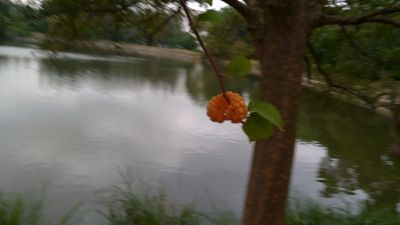eggs: (204, 88, 249, 125)
